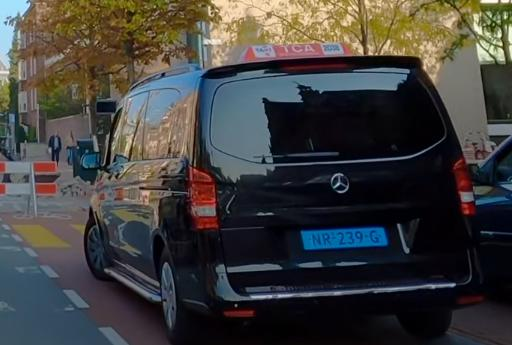license-plate: (299, 225, 393, 252)
